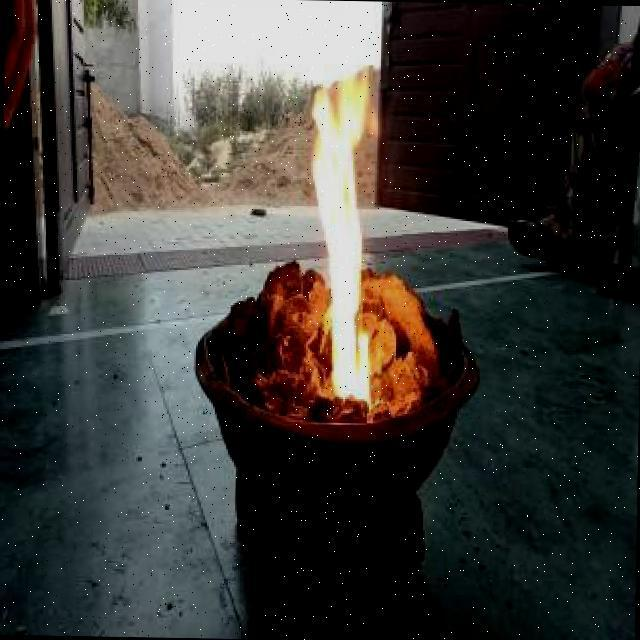Fire: (291, 44, 393, 410)
